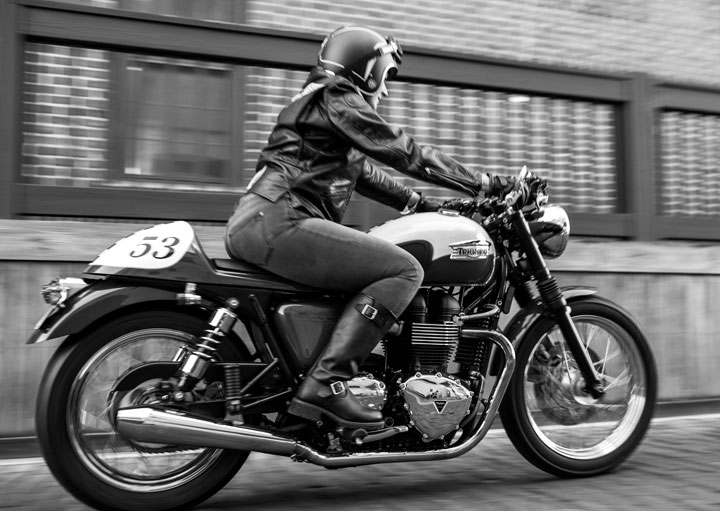helmet: (266, 3, 553, 289)
